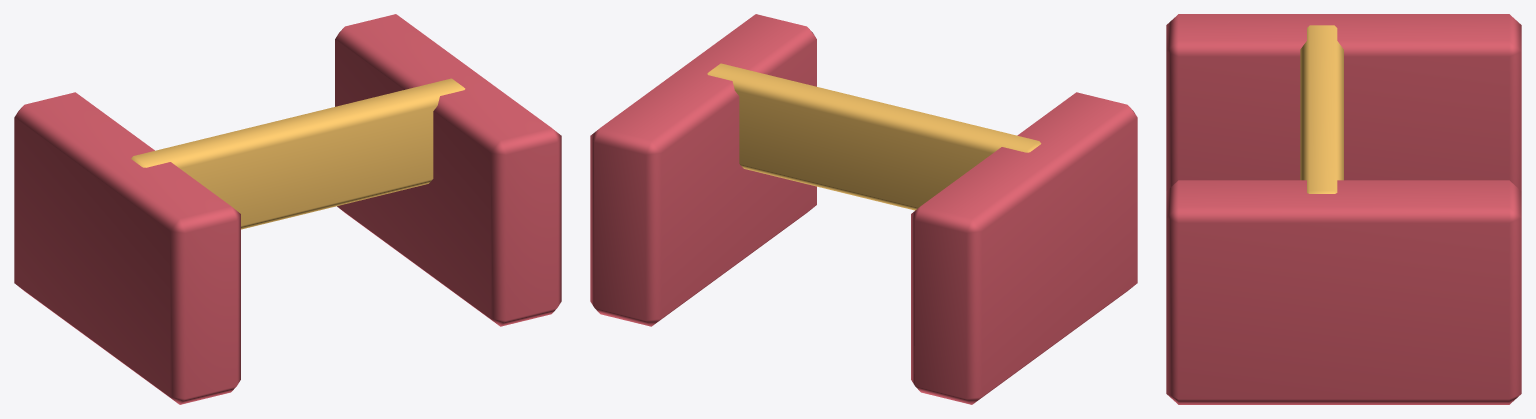
The model's file is fin_set.glb.
The picture shows the model from 3 angles, left to right: view 1: azimuth 30°, elevation 25°; view 2: azimuth 150°, elevation 25°; view 3: azimuth 270°, elevation 25°; orthographic projection. The views are drawn at different scales.
Parts seen in each view (by area): view 1: fin | left blade, fin | right blade, fin | cross brace; view 2: fin | left blade, fin | right blade, fin | cross brace; view 3: fin | right blade, fin | left blade, fin | cross brace.
Boxes of the visible parts, <box> form: fin | left blade: <box>14,92,240,404</box>; fin | right blade: <box>335,14,561,326</box>; fin | cross brace: <box>131,78,465,229</box>; fin | left blade: <box>911,92,1137,404</box>; fin | right blade: <box>590,14,816,326</box>; fin | cross brace: <box>707,63,1041,210</box>; fin | right blade: <box>1166,180,1521,404</box>; fin | left blade: <box>1166,14,1521,190</box>; fin | cross brace: <box>1300,25,1343,193</box>.
Bounding box in the file's own units: 1.76 × 0.81 × 1.3.
